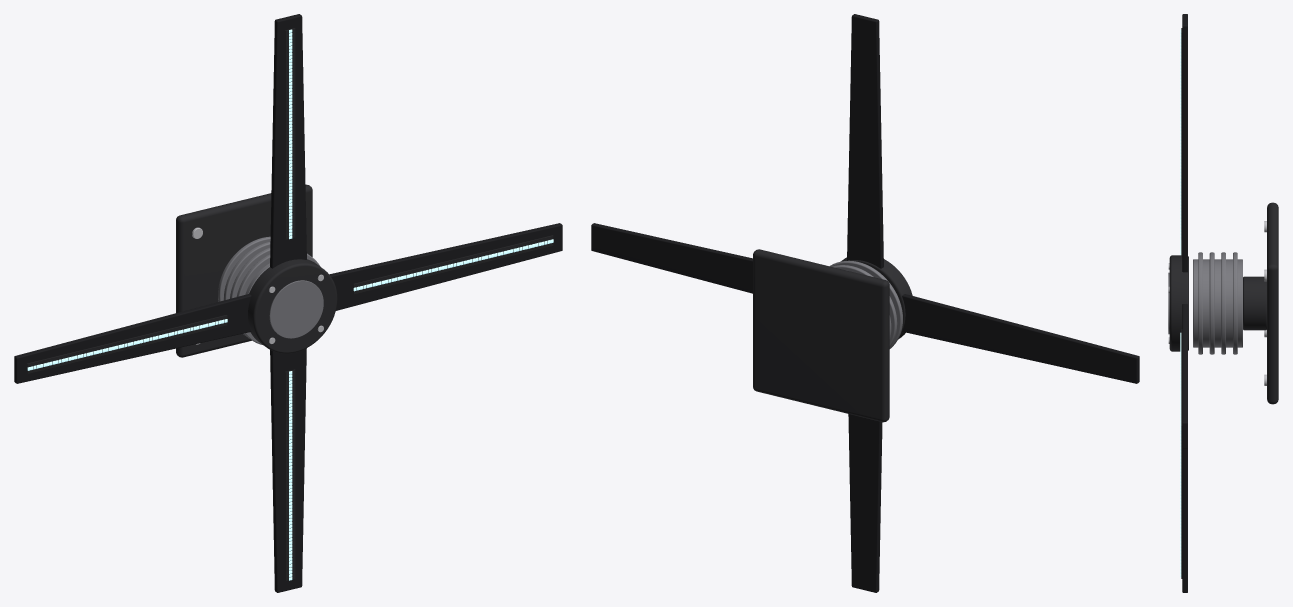
File: hero-fan.glb
The picture shows the model from 3 angles, left to right: view 1: azimuth 30°, elevation 25°; view 2: azimuth 150°, elevation 25°; view 3: azimuth 270°, elevation 25°; orthographic projection.
Visible parts, largest first — view 1: Wall_Plate, Blade_03, Blade_04, Blade_02, Blade_01, Hub_Cap, Hub_Logo_Disc, Motor_Housing, PCB_Strip_02, PCB_Strip_04, PCB_Strip_01, PCB_Strip_03 (+4 smaller); view 2: Wall_Plate, Blade_04, Blade_03, Blade_02, Blade_01, Motor_Housing, Hub_Cap; view 3: Motor_Housing, Wall_Plate, Hub_Cap, Blade_04, Motor_Neck, Blade_02, Blade_01, PCB_Strip_04, LED_Dots_04, LED_Dots_02, PCB_Strip_02, PCB_Strip_01 (+1 smaller).
Part boxes in pixels (<box>): Wall_Plate: <box>176,184,312,357</box>; Blade_03: <box>14,294,251,383</box>; Blade_04: <box>270,14,306,268</box>; Blade_02: <box>270,348,306,592</box>; Blade_01: <box>329,223,562,310</box>; Hub_Cap: <box>248,259,337,353</box>; Hub_Logo_Disc: <box>269,280,323,338</box>; Motor_Housing: <box>218,236,320,344</box>; PCB_Strip_02: <box>285,369,295,581</box>; PCB_Strip_04: <box>285,28,295,239</box>; PCB_Strip_01: <box>353,235,553,294</box>; PCB_Strip_03: <box>27,315,227,374</box>; Wall_Plate: <box>753,249,889,422</box>; Blade_04: <box>847,14,883,268</box>; Blade_03: <box>902,294,1139,383</box>; Blade_02: <box>848,414,882,592</box>; Blade_01: <box>591,223,752,293</box>; Motor_Housing: <box>830,260,902,348</box>; Hub_Cap: <box>841,257,912,339</box>; Motor_Housing: <box>1193,252,1242,354</box>; Wall_Plate: <box>1267,202,1278,404</box>; Hub_Cap: <box>1169,255,1188,351</box>; Blade_04: <box>1182,14,1187,272</box>; Motor_Neck: <box>1243,276,1266,330</box>; Blade_02: <box>1182,448,1187,592</box>; Blade_01: <box>1182,304,1187,448</box>; PCB_Strip_04: <box>1181,28,1182,240</box>; LED_Dots_04: <box>1180,29,1181,238</box>; LED_Dots_02: <box>1180,432,1181,577</box>; PCB_Strip_02: <box>1181,436,1182,578</box>; PCB_Strip_01: <box>1181,329,1182,435</box>.
Size of the model in its own units: 0.65 by 0.65 by 0.1145.
